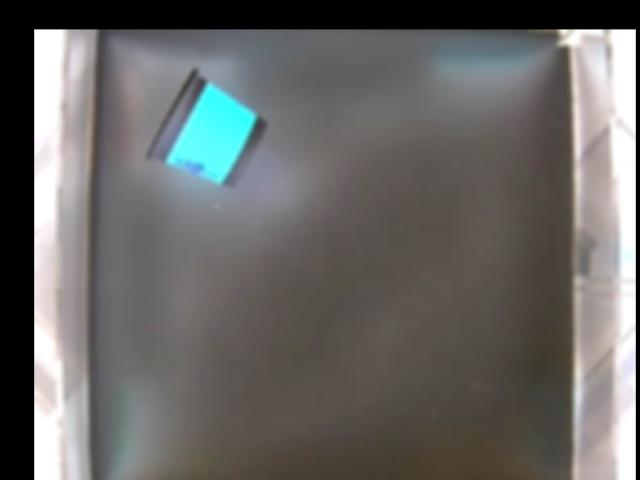Cup: (146, 65, 270, 190)
